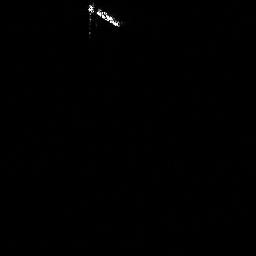ship: (84, 1, 124, 30)
